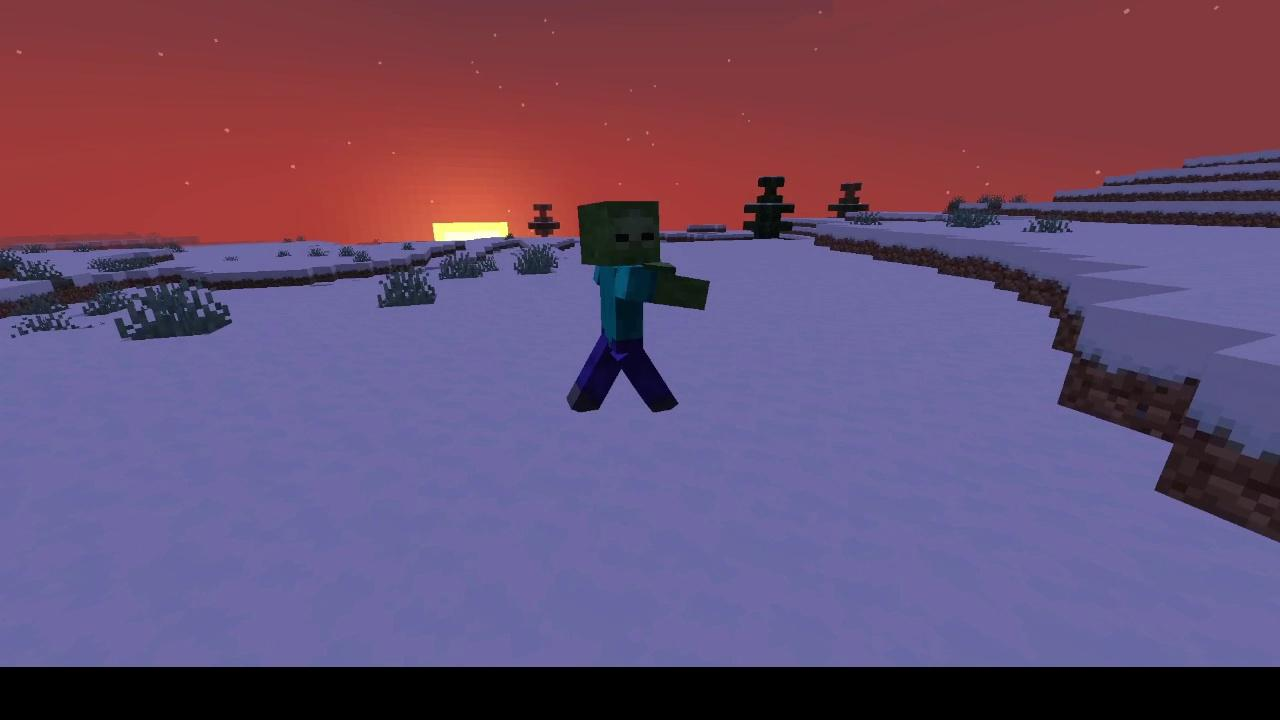zombie: (560, 194, 716, 421)
